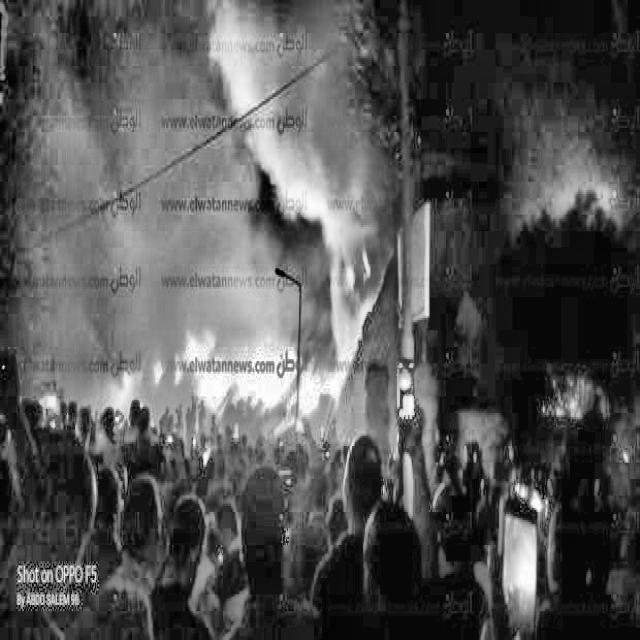fire: (84, 188, 460, 486), (492, 458, 552, 600), (559, 358, 607, 470)
